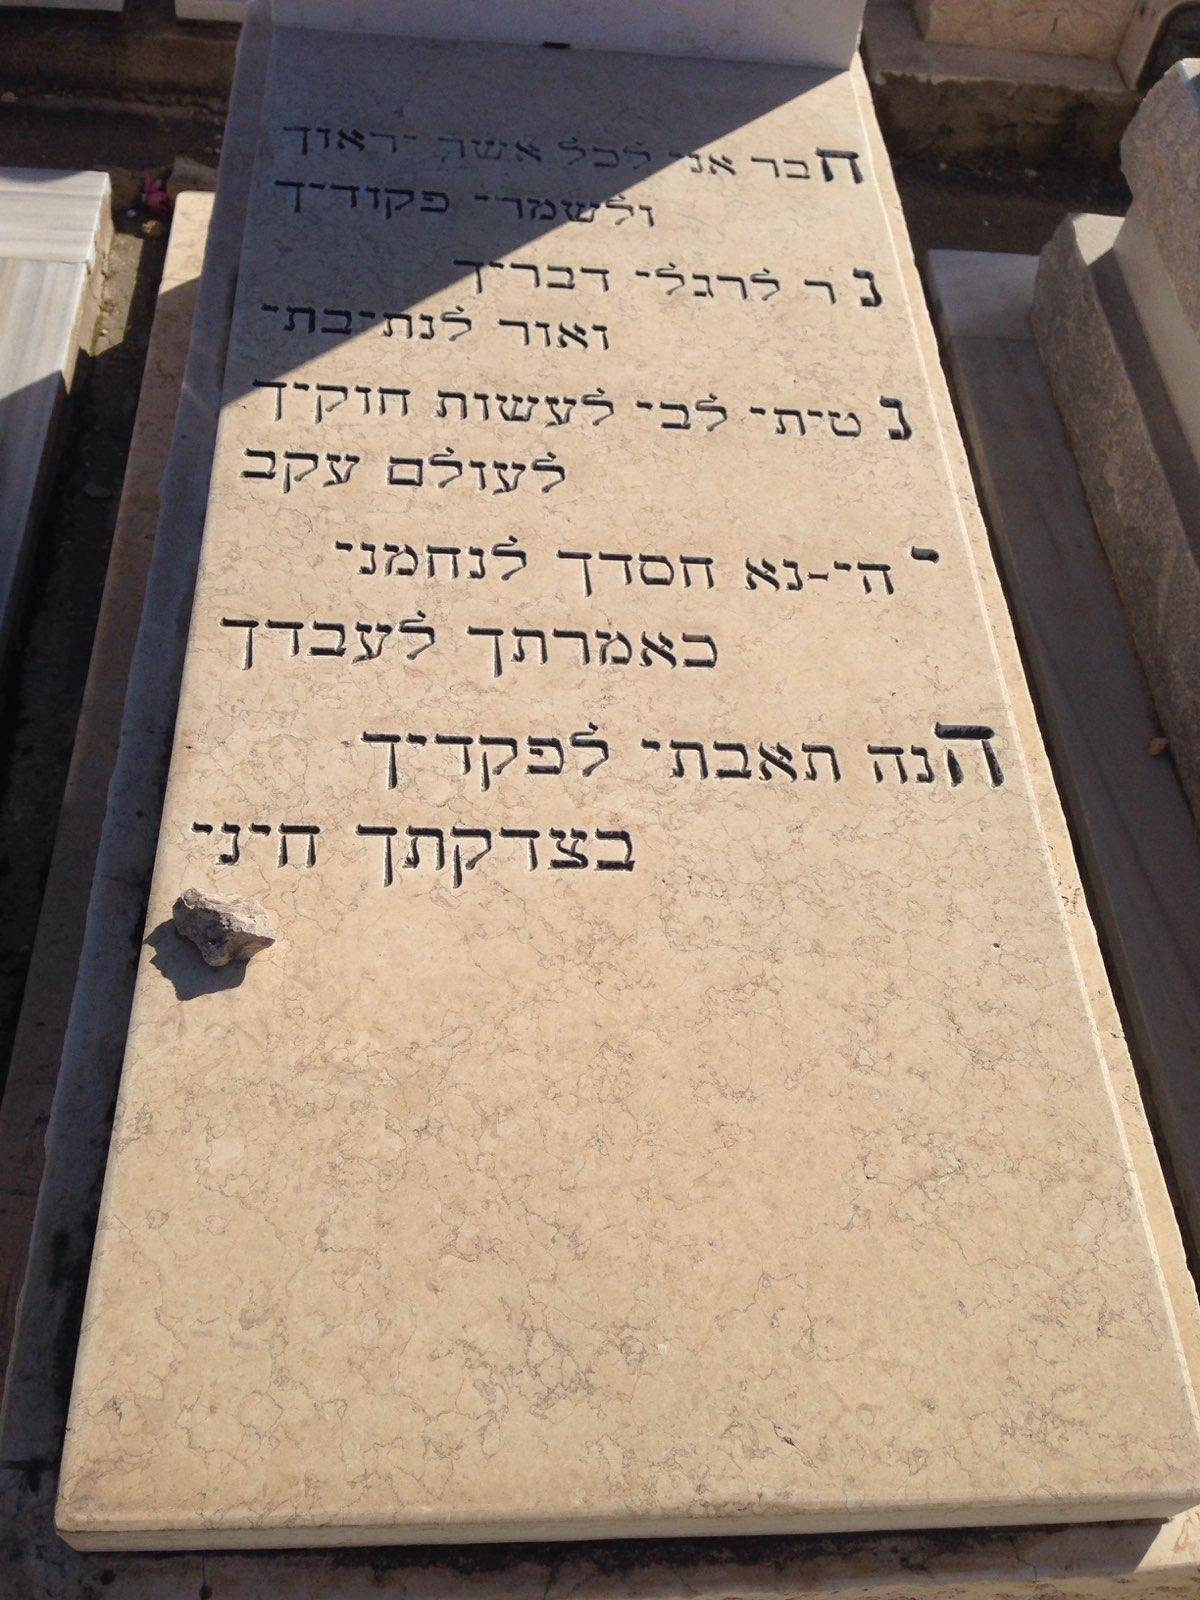vault: (57, 3, 1200, 1558)
